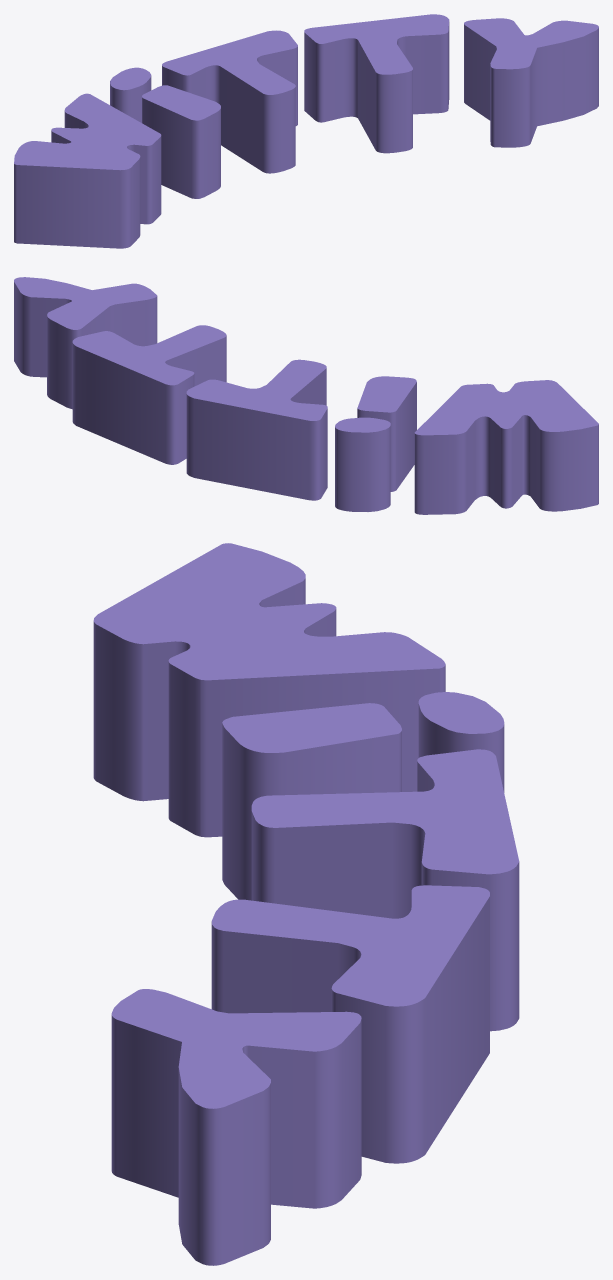
The model's file is textWitty.dae.
3 views of the same model, one above another, from view 1: azimuth 30°, elevation 25°; view 2: azimuth 150°, elevation 25°; view 3: azimuth 270°, elevation 25° (orthographic). The views are drawn at different scales.
Visible parts, largest first — view 1: Witty_003; view 2: Witty_003; view 3: Witty_003.
Boxes of the visible parts, x1,y1,x2,y2 form: Witty_003: [14, 14, 598, 248]; Witty_003: [14, 277, 598, 514]; Witty_003: [93, 543, 519, 1265].
Bounding box in the file's own units: 1.39 × 0.4434 × 0.1804.
